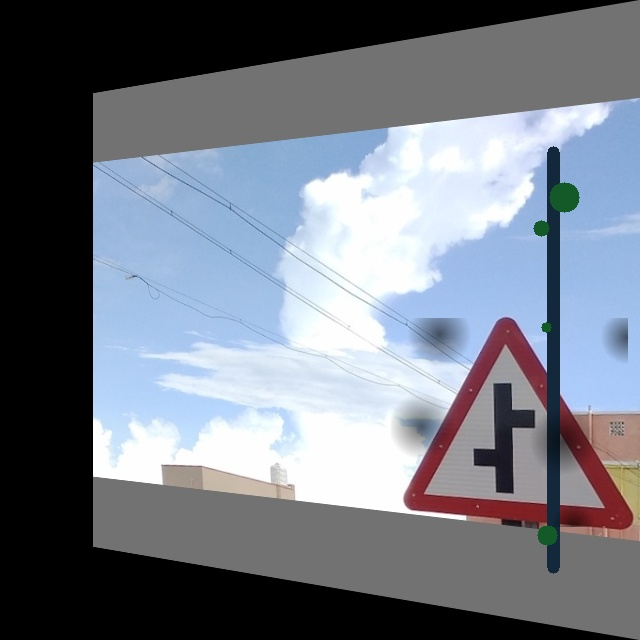Staggered_Intersection: (391, 318, 628, 527)
